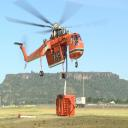helicopter: (7, 1, 111, 74)
